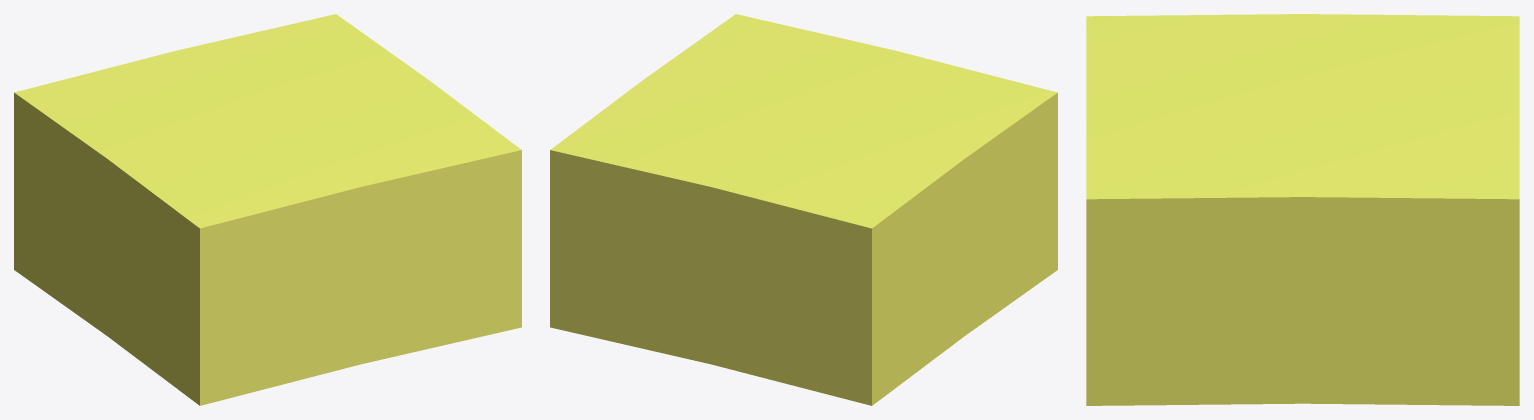
The model's file is 일반사각형포스트잇.fbx.
3 views of the same model, side by side, from view 1: azimuth 30°, elevation 25°; view 2: azimuth 150°, elevation 25°; view 3: azimuth 270°, elevation 25° (orthographic). The views are drawn at different scales.
Visible parts, largest first — view 1: stickers; view 2: stickers; view 3: stickers.
Part boxes in pixels (bbox=[...]): stickers: bbox=[14, 14, 521, 405]; stickers: bbox=[550, 14, 1057, 405]; stickers: bbox=[1086, 14, 1519, 405].
Bounding box in the file's own units: 510 × 275 × 510.
